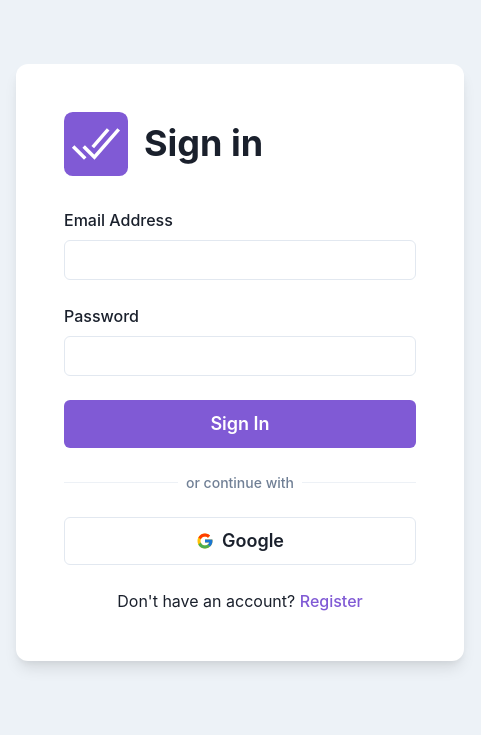
Test: Login with provider Google › should display error when user close popup window login google
Click the button "Google".
click(240, 540)  # box [64,516,416,564]
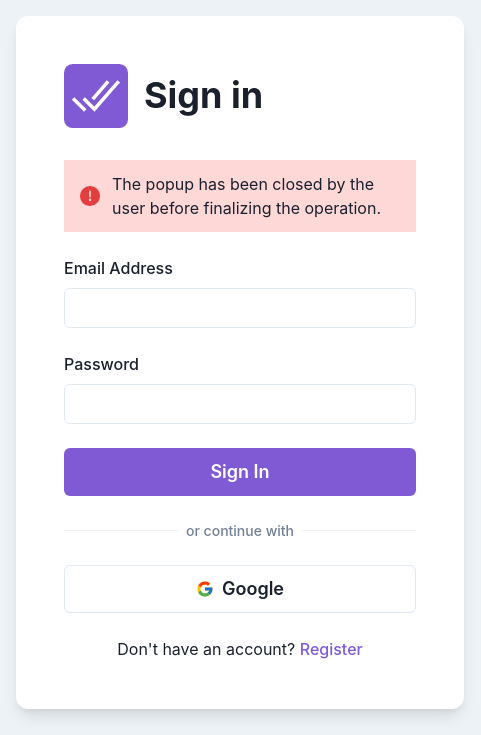
Check: the message named "error" is shown, box [64,160,416,232]
Check: the message named "error" reads "The popup has been closed by the user before finalizing the operation.", box [112,174,381,218]
